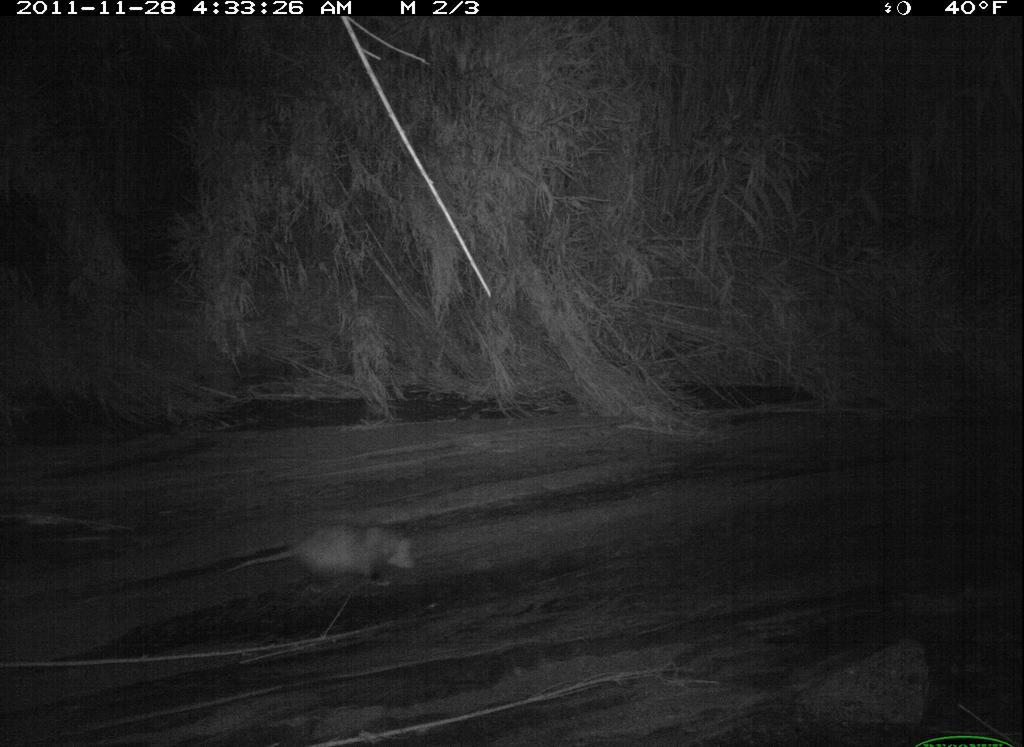opossum: (207, 519, 426, 596)
